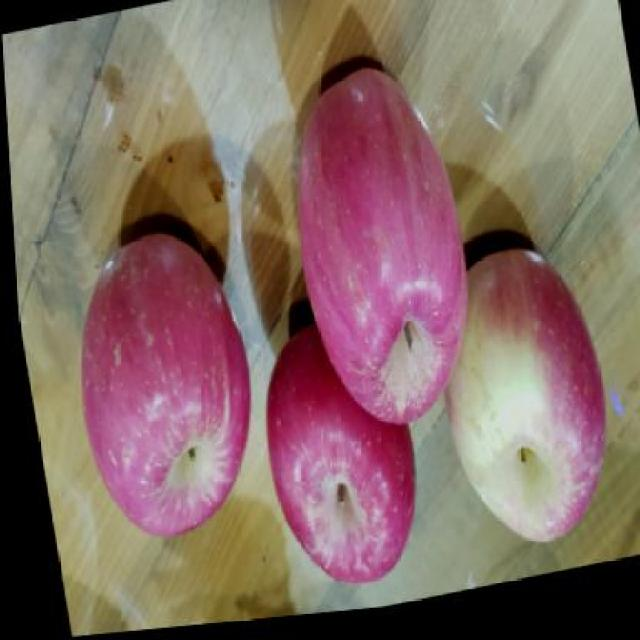Fresh Apple: (289, 68, 473, 416), (92, 236, 252, 516), (264, 342, 428, 586), (454, 266, 602, 536)
